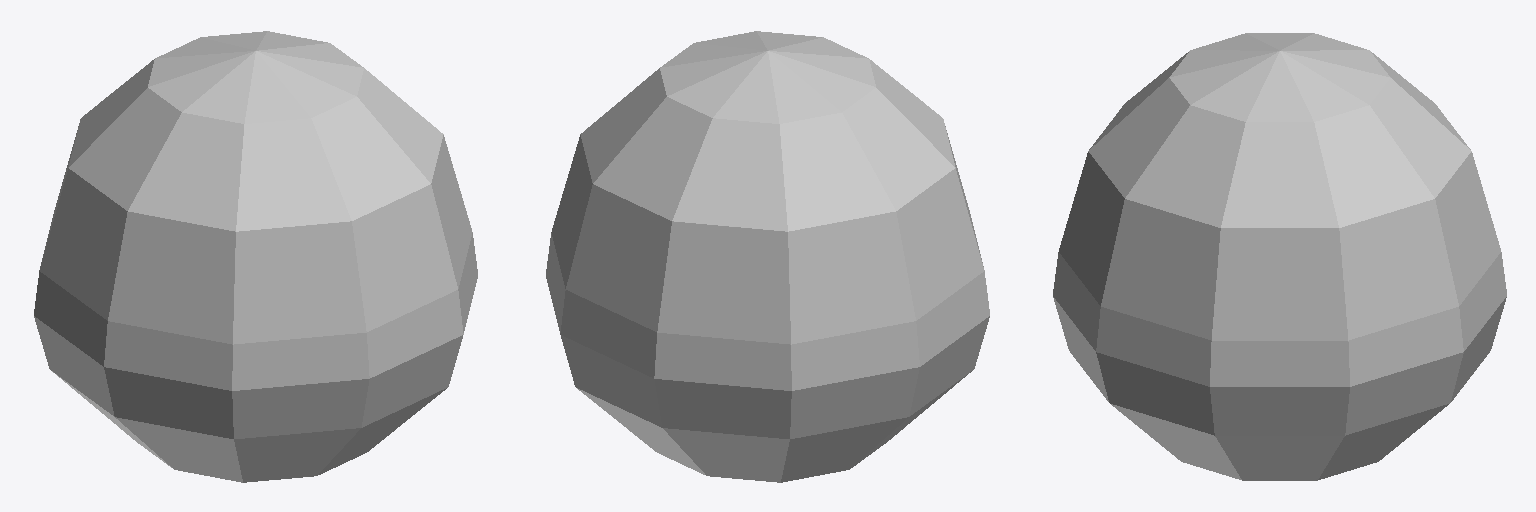
Rendered from Tartaruga-olhoD.obj.
The picture shows the model from 3 angles: view 1: azimuth 30°, elevation 25°; view 2: azimuth 150°, elevation 25°; view 3: azimuth 270°, elevation 25°; orthographic projection.
Visible parts, largest first — view 1: Tartaruga-olhoD_Sphere; view 2: Tartaruga-olhoD_Sphere; view 3: Tartaruga-olhoD_Sphere.
Part boxes in pixels (x1,y1,x2,y2): Tartaruga-olhoD_Sphere: (34, 31, 477, 482); Tartaruga-olhoD_Sphere: (546, 31, 989, 482); Tartaruga-olhoD_Sphere: (1053, 33, 1506, 480).
Bounding box in the file's own units: 0.1526 × 0.1599 × 0.1605.